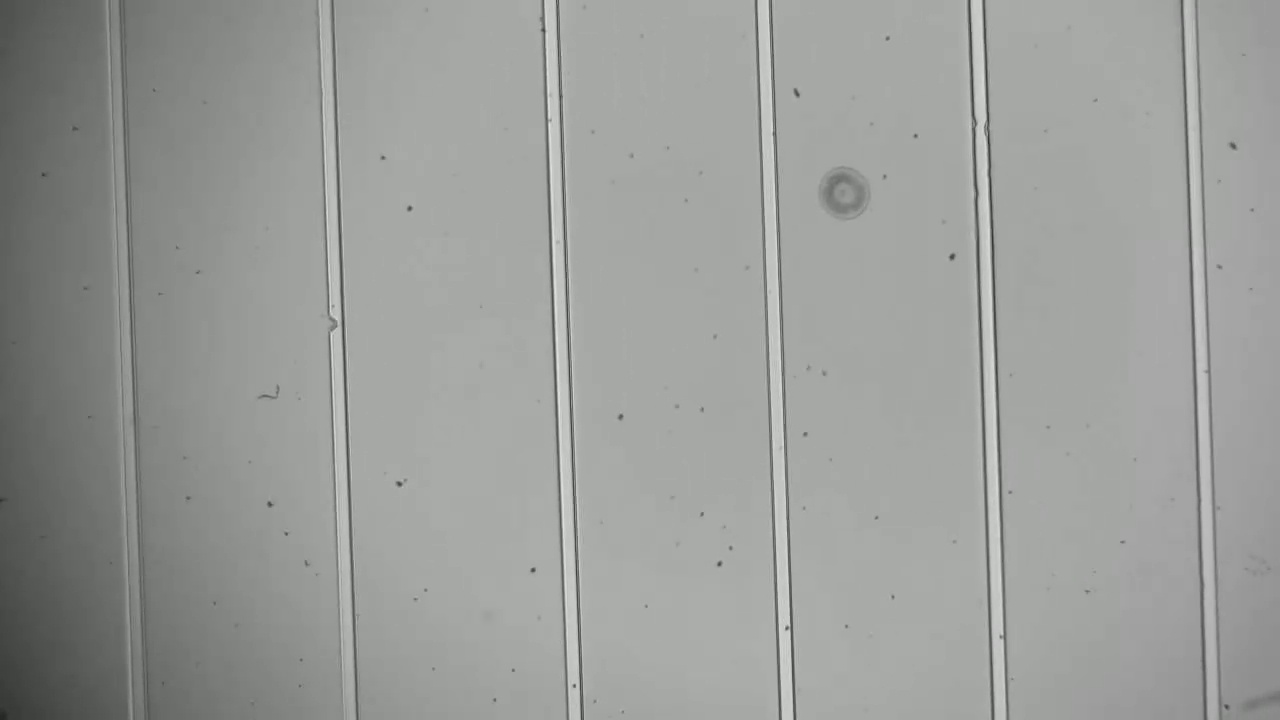edge_bite: (958, 109, 1002, 147), (320, 310, 348, 339)
